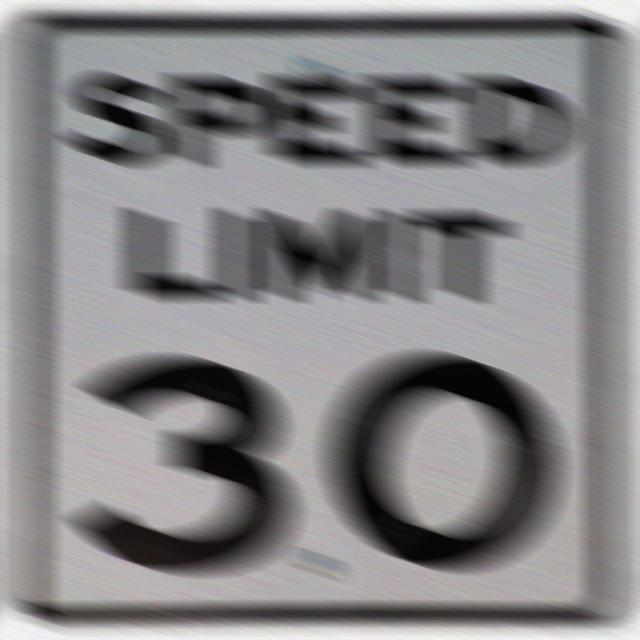speedLimit30: (6, 4, 636, 631)
